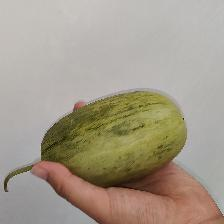gua: (54, 106, 168, 169)
